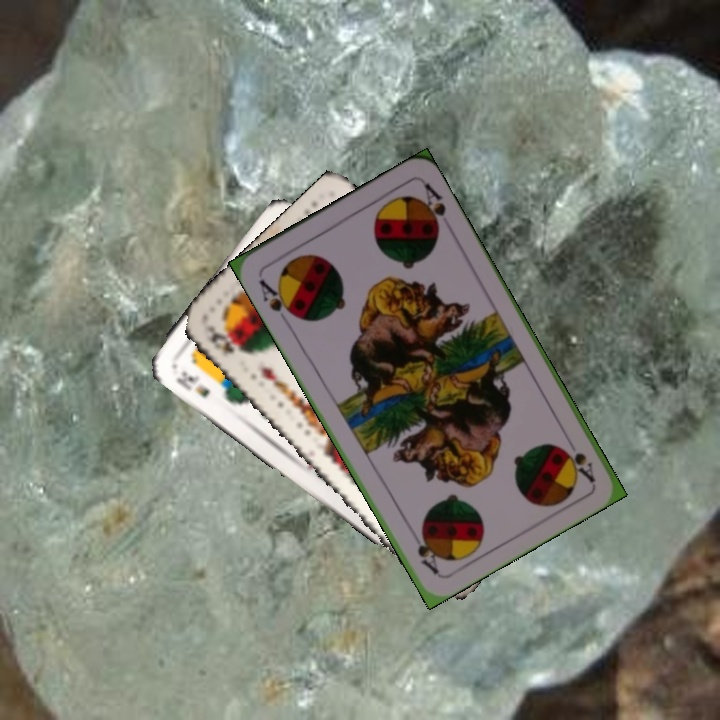EK: (171, 367, 212, 400)
SA: (255, 275, 299, 327), (559, 444, 598, 485)
SK: (202, 321, 245, 357)
